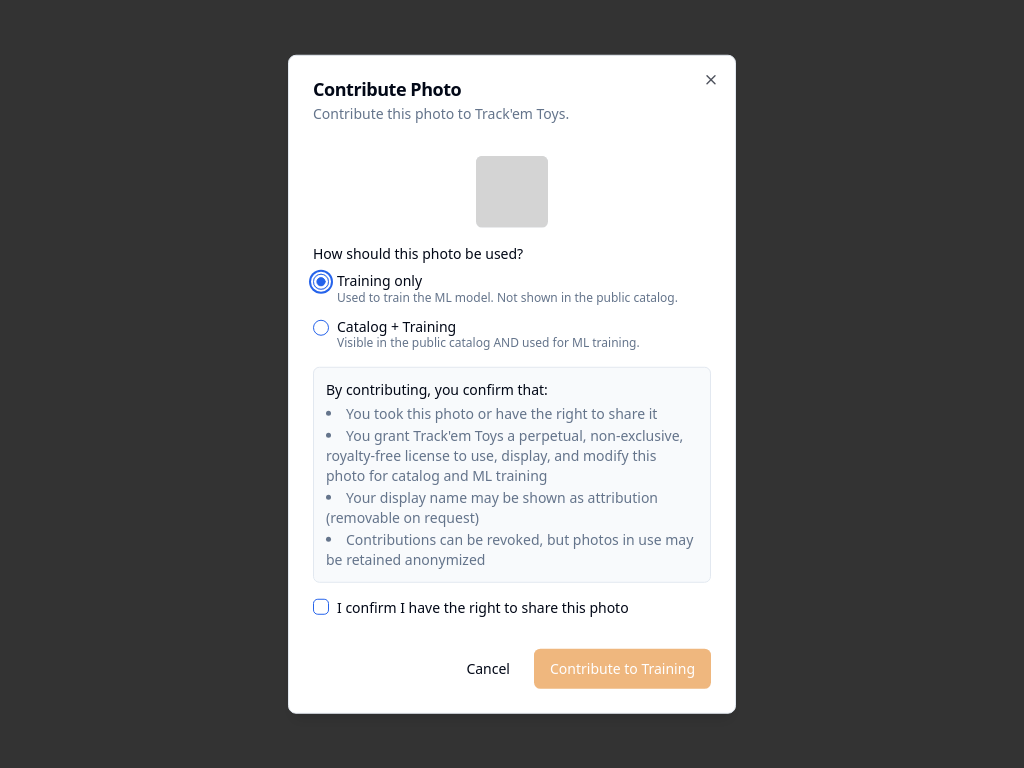
Test: ContributeDialog › requires consent checkbox regardless of intent — training_only path
expect the button "Contribute to Training" is disabled: met, box [534,648,711,688]
Click the checkbox named "I confirm I have the right to share" at x=321, y=607, box [313,599,329,615]
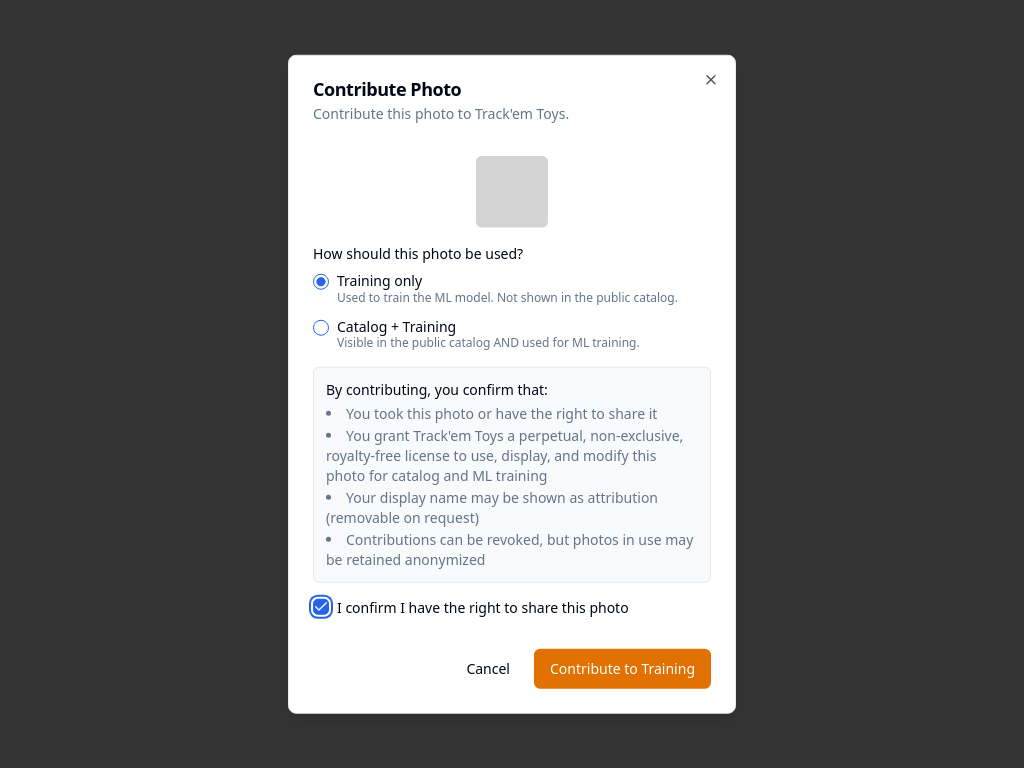
expect the button "Contribute to Training" is enabled: met, box [534,648,711,688]
